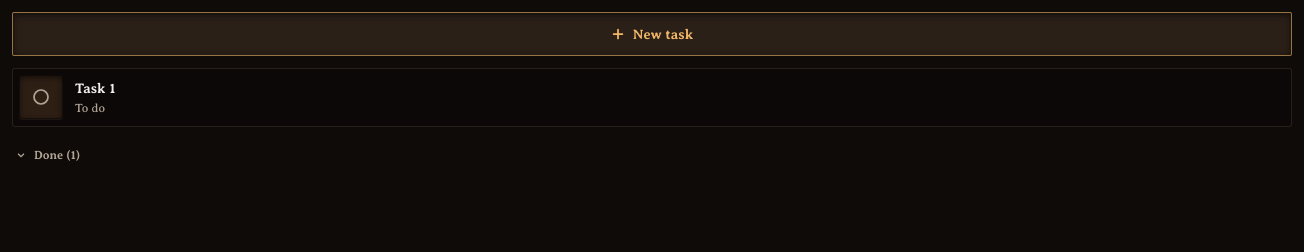
Test: task board › moves a task on with one tap and keeps finished ones folded away
expect the text "Old one" is not shown: met
Click the button named "Start Task 1" at (41, 97), box x1=19 y1=75 x2=63 y2=119
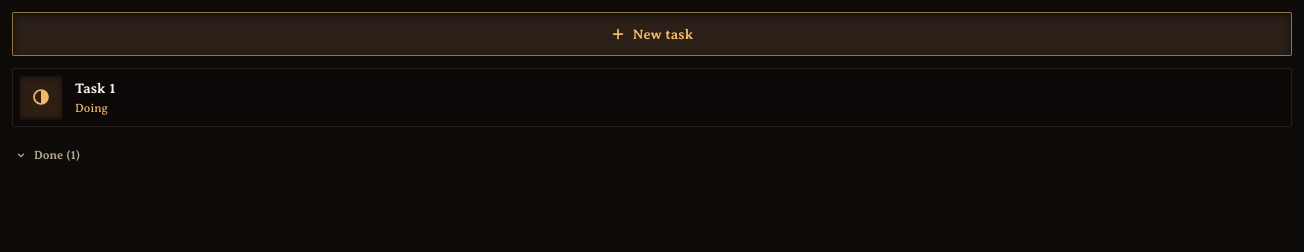
expect the button named "Mark Task 1 done" is shown: met, box x1=19 y1=75 x2=63 y2=119
Click the button "Done (1)" at (57, 155), box x1=12 y1=139 x2=1292 y2=171
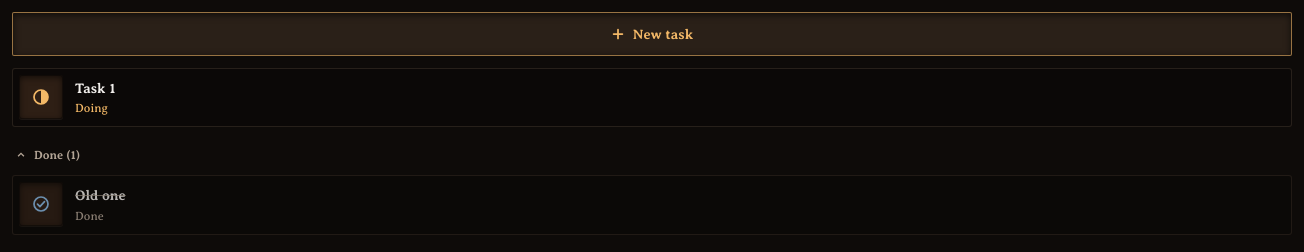
expect the text "Old one" is shown: met, box x1=75 y1=187 x2=126 y2=203
